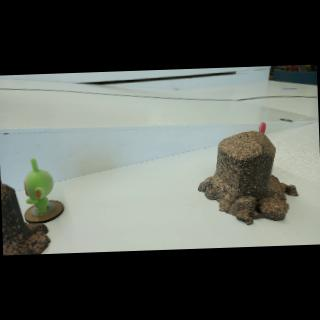teletubby: (24, 159, 53, 215), (259, 122, 266, 134)
